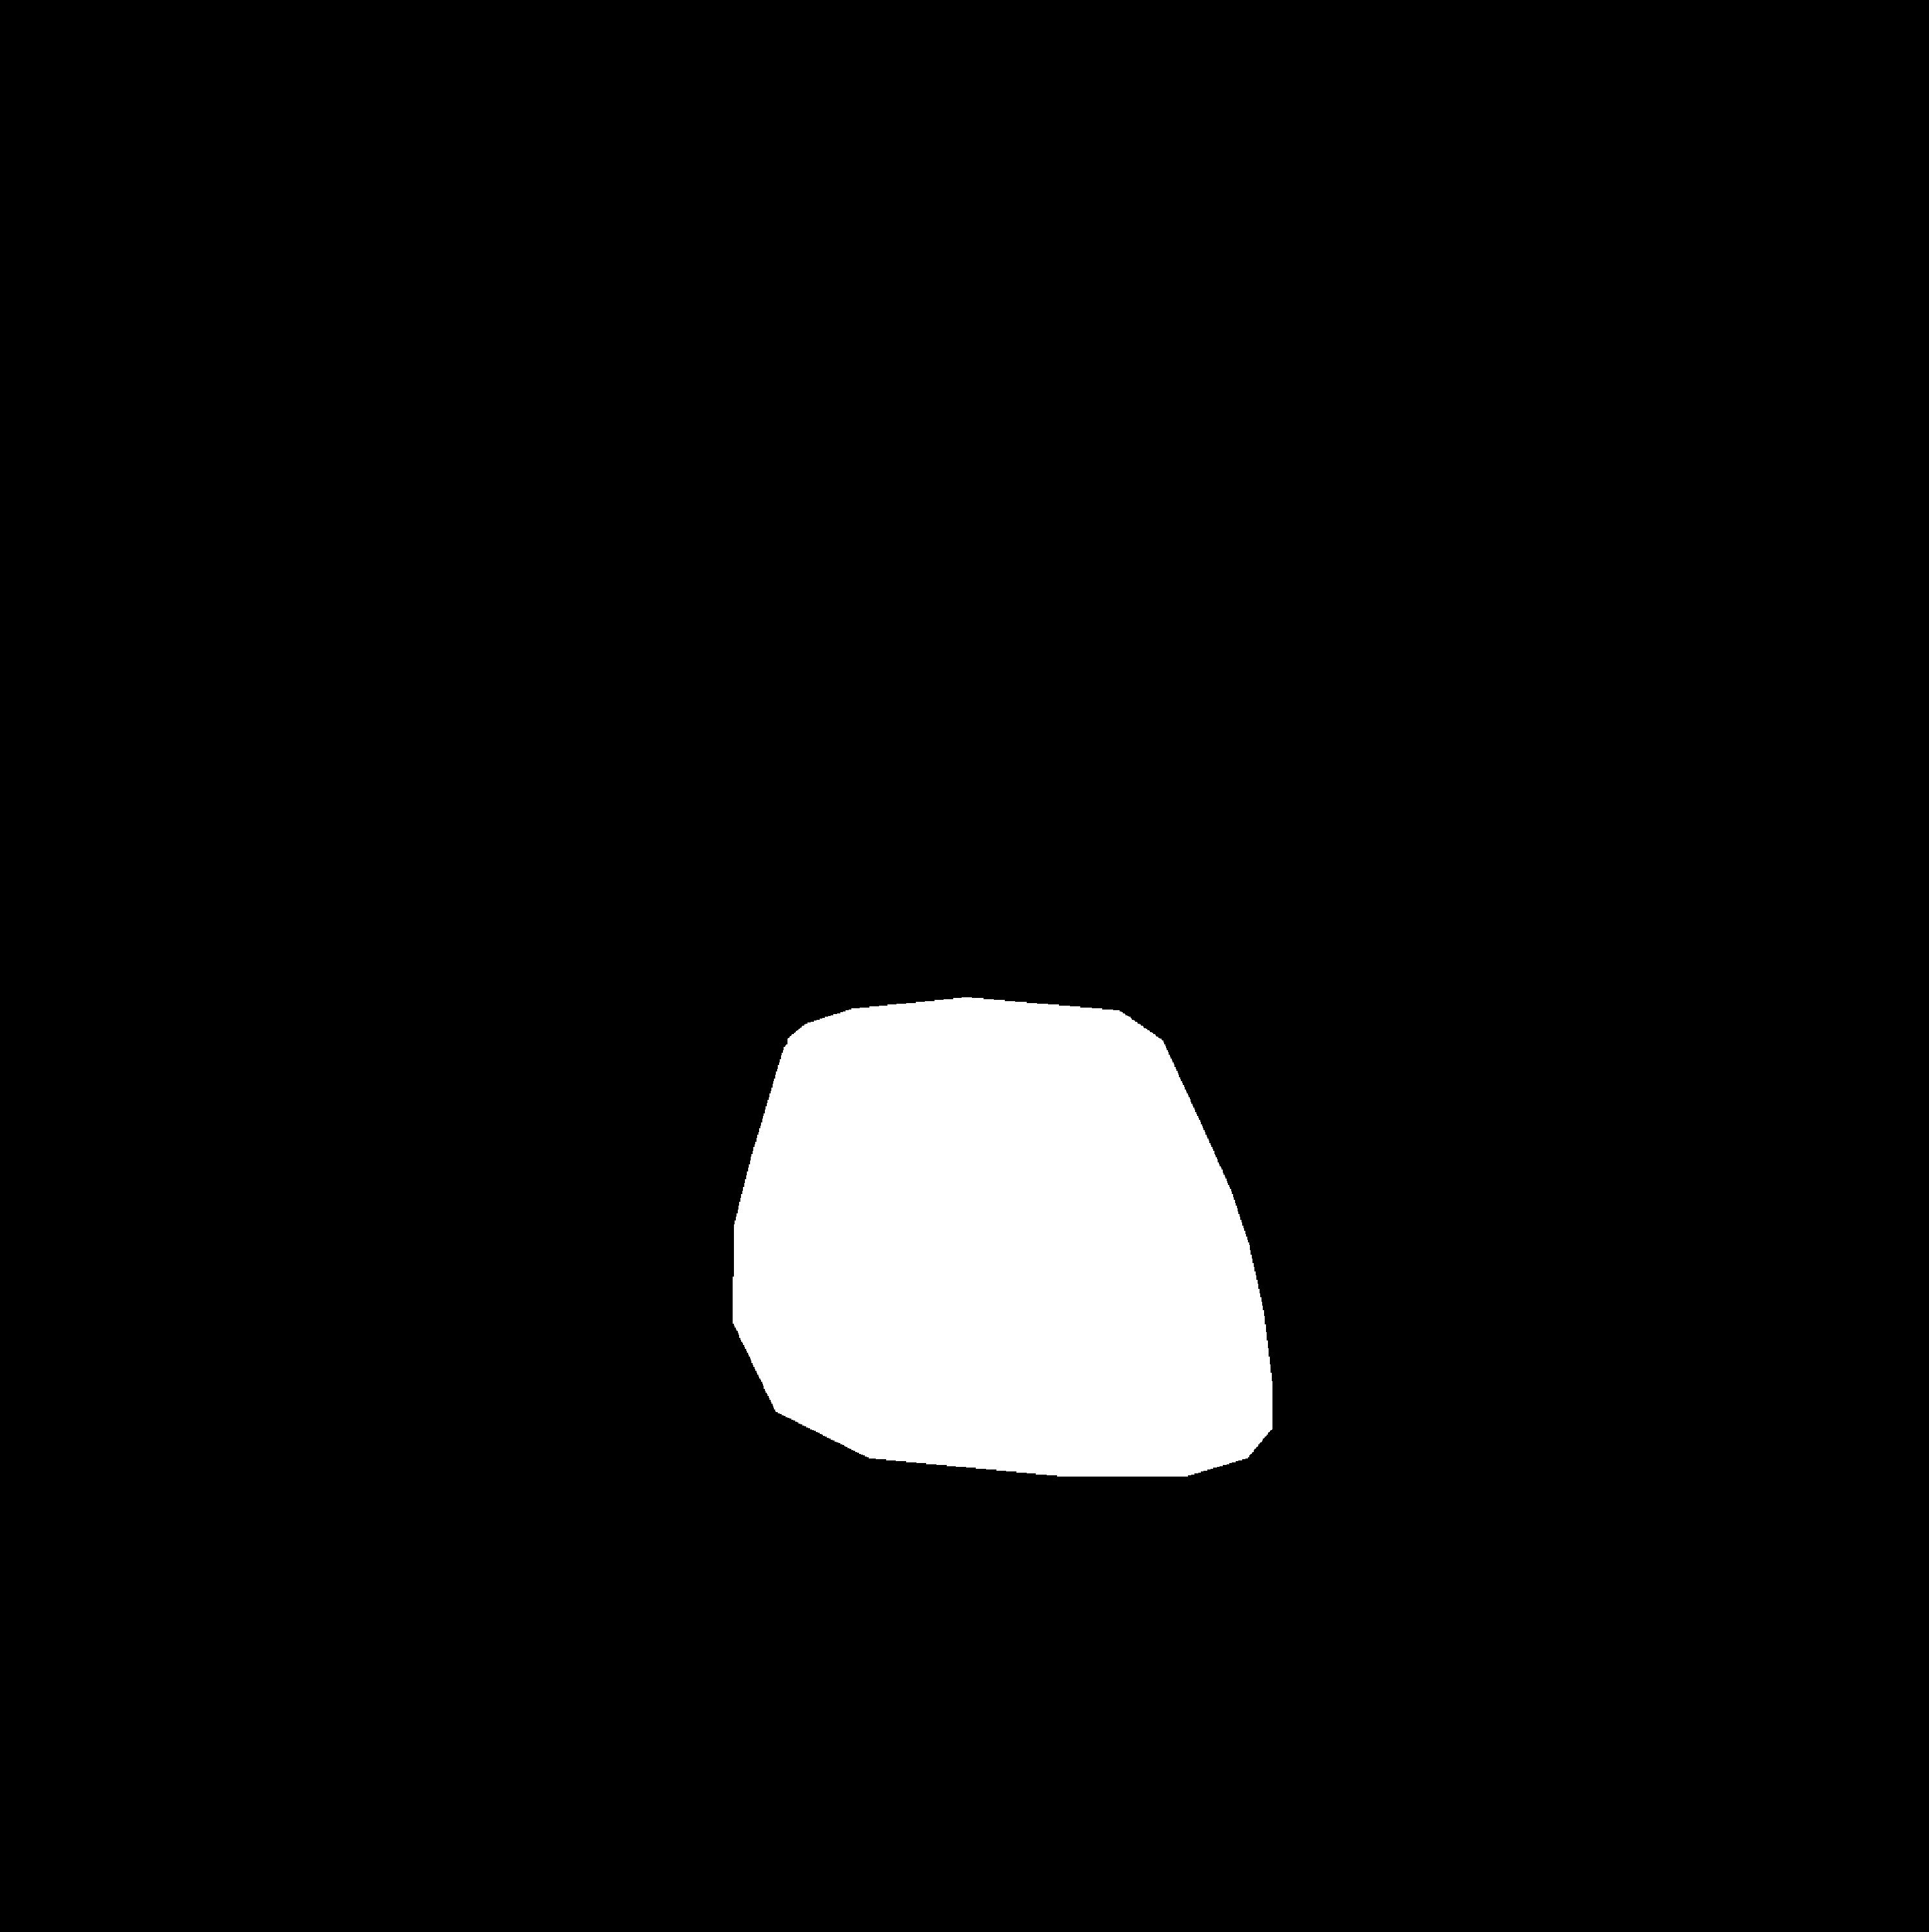heart: (730, 1027, 1277, 1457)
left_lung: (337, 258, 885, 1582)
right_lung: (1037, 331, 1533, 1617)
